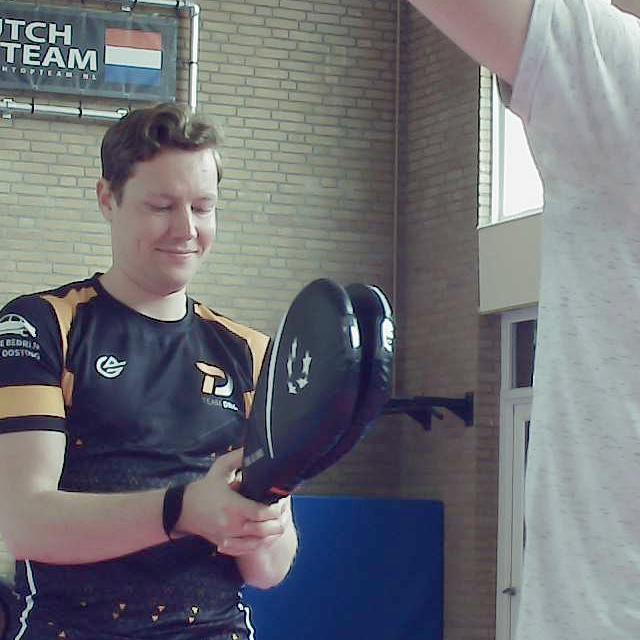paddle: (239, 278, 394, 502)
